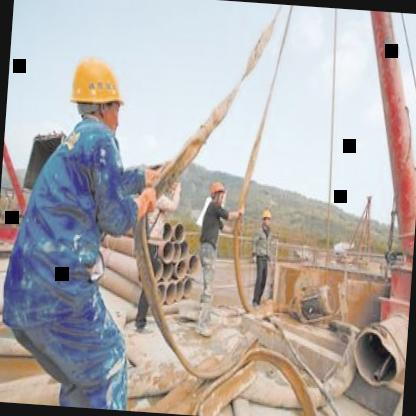helmet: (66, 50, 130, 134), (206, 177, 228, 208), (260, 206, 274, 228)
